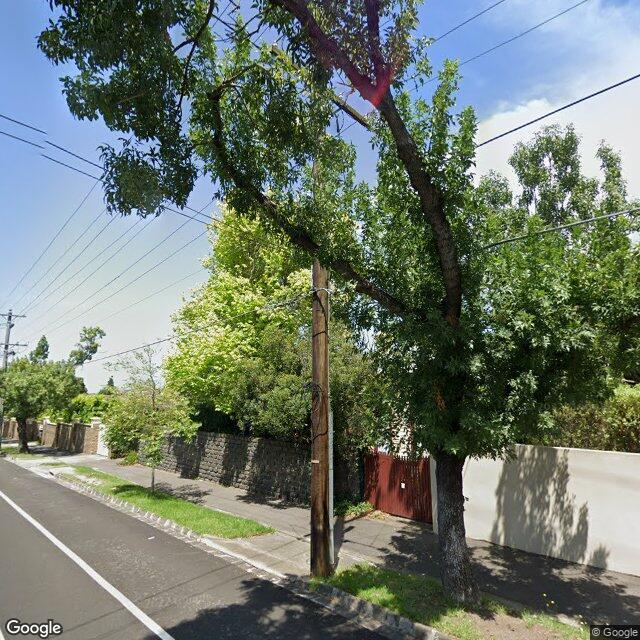crossarm: (269, 45, 370, 130), (0, 314, 27, 317), (0, 344, 28, 346)
timber-pole: (310, 72, 337, 579), (2, 310, 12, 370)
